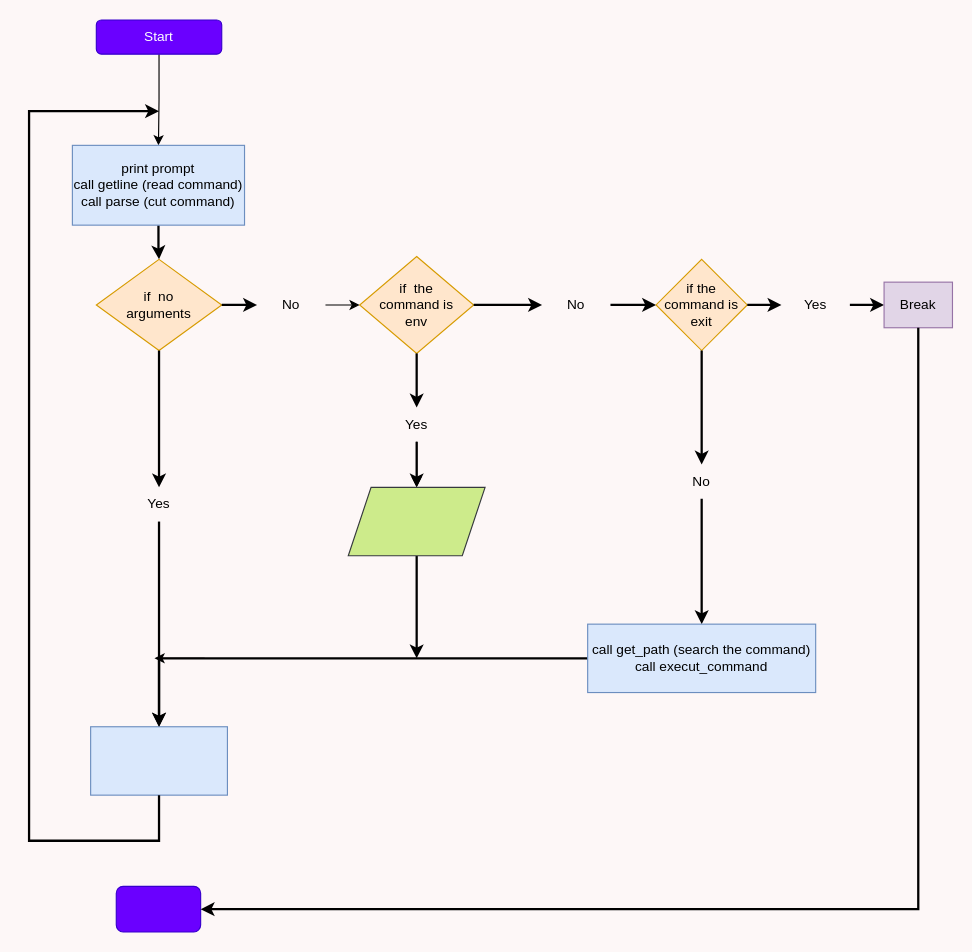
Some shapes in this 972 by 952 pixel diagram are drawn without their labels. Each missing label, with the centre of its shape:
"End" belongs at point (158, 908).
"Free allocated memory for next loop" belongs at point (158, 760).
"print env" belongs at point (416, 521).
